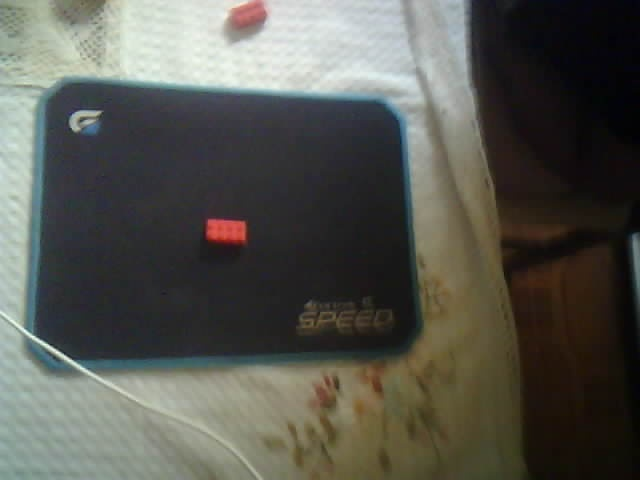lego: (202, 218, 248, 244), (228, 1, 267, 29)
